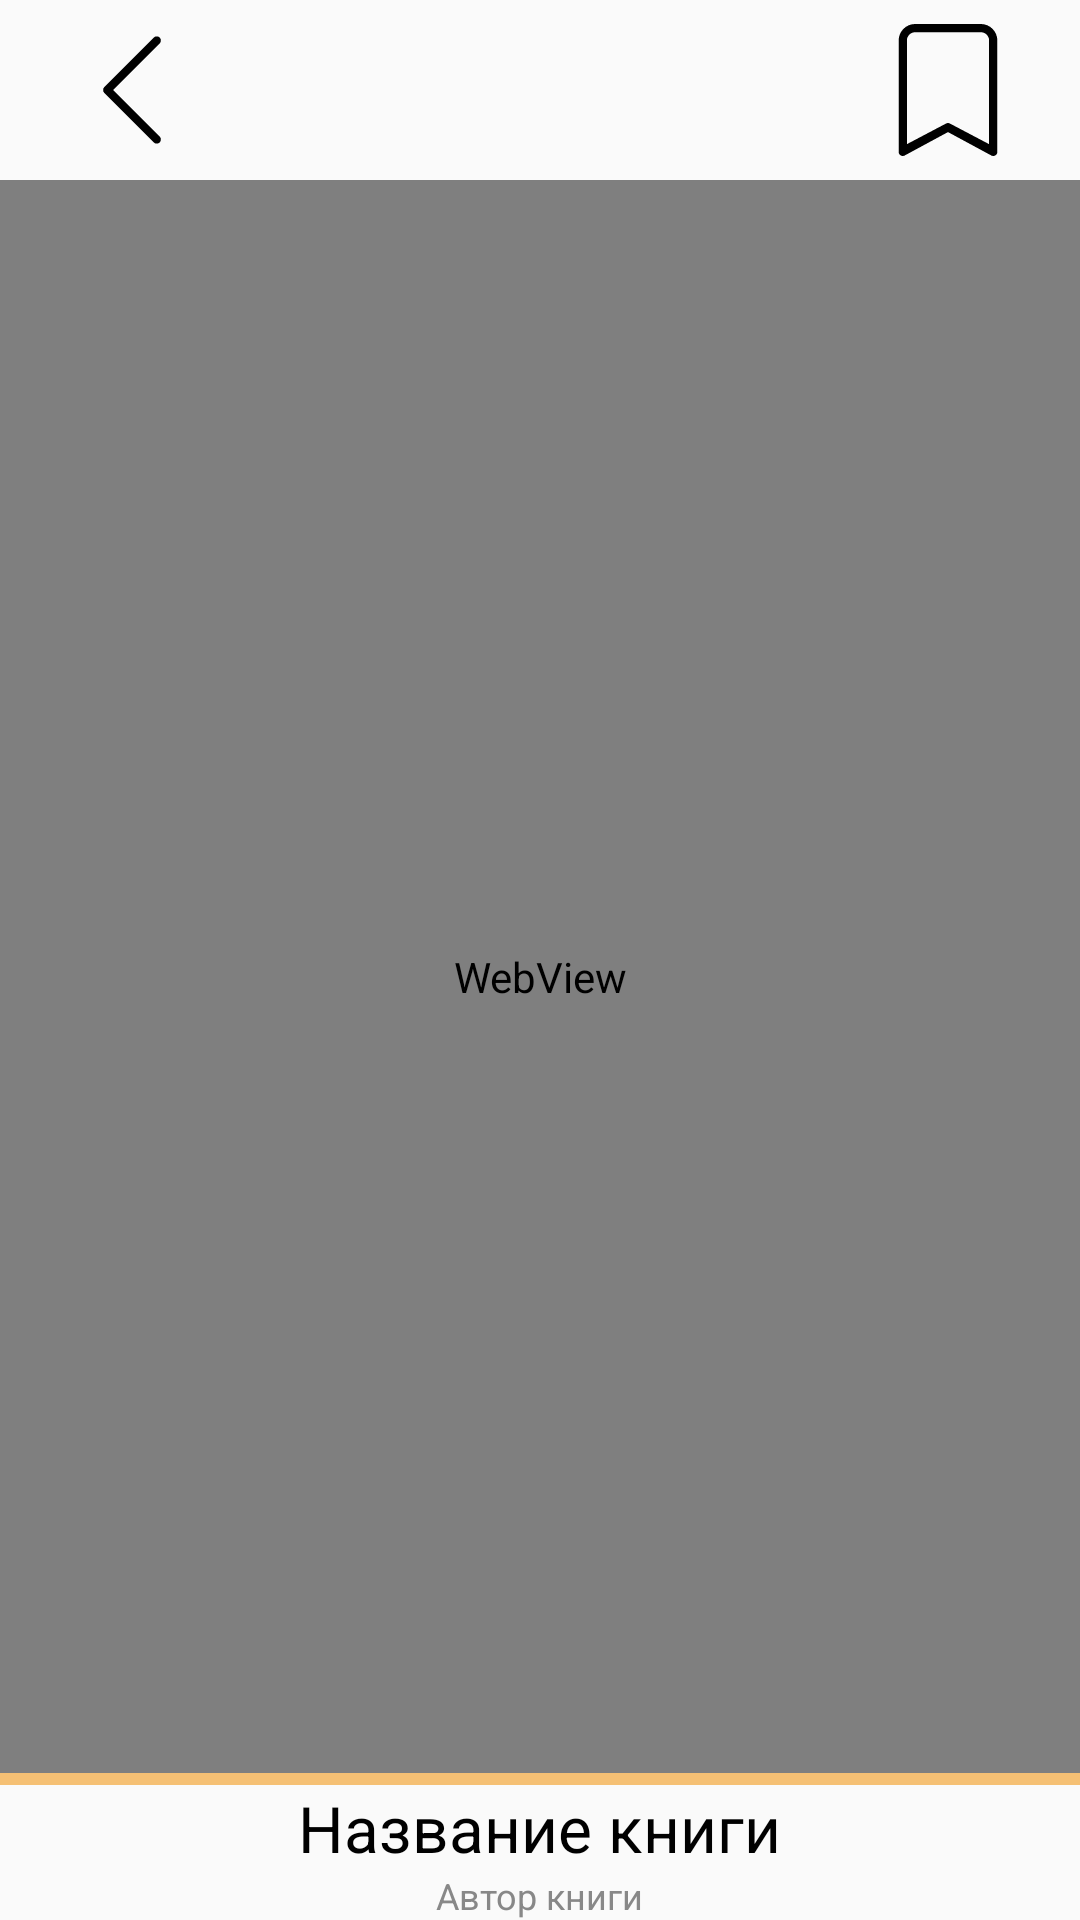

Screen size 1080×1920. Icon name, then its center in pixels as [x,y]:
arrow left: [132,90]
bookmark empty: [948,90]
